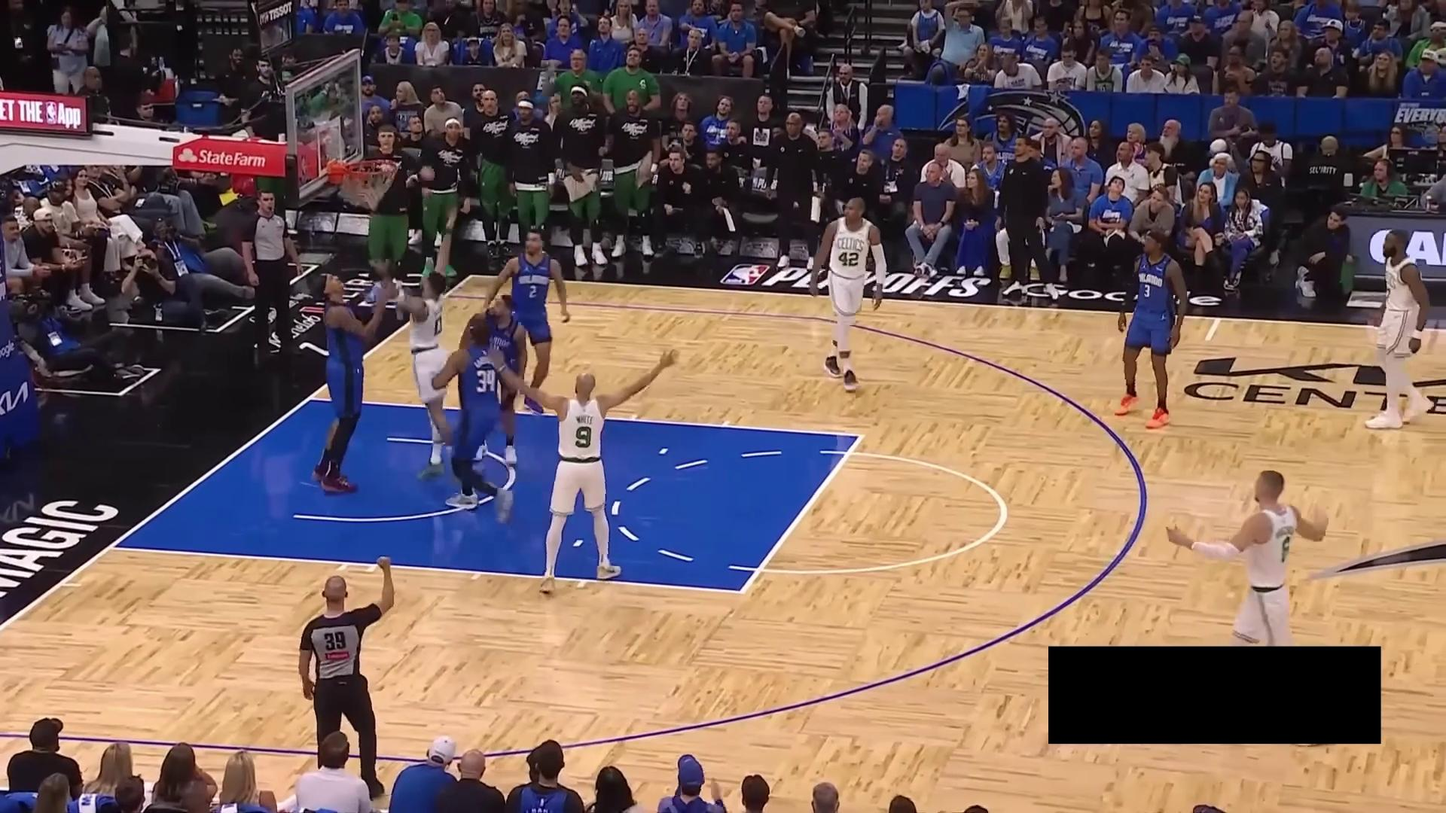ball: (347, 180, 385, 210)
ball-in-basket: (346, 158, 403, 215)
number: (476, 368, 499, 396), (573, 425, 594, 452), (838, 252, 859, 266), (434, 314, 444, 337), (529, 284, 537, 298), (1144, 284, 1151, 298)
player: (487, 343, 685, 599), (1162, 469, 1328, 646), (370, 208, 461, 478), (302, 271, 393, 498), (429, 318, 522, 523), (481, 223, 575, 418), (805, 191, 890, 395), (1111, 228, 1191, 433), (1360, 225, 1440, 429), (453, 289, 538, 469)
referee: (296, 554, 400, 805), (237, 185, 305, 362)
rim: (345, 156, 399, 178)
